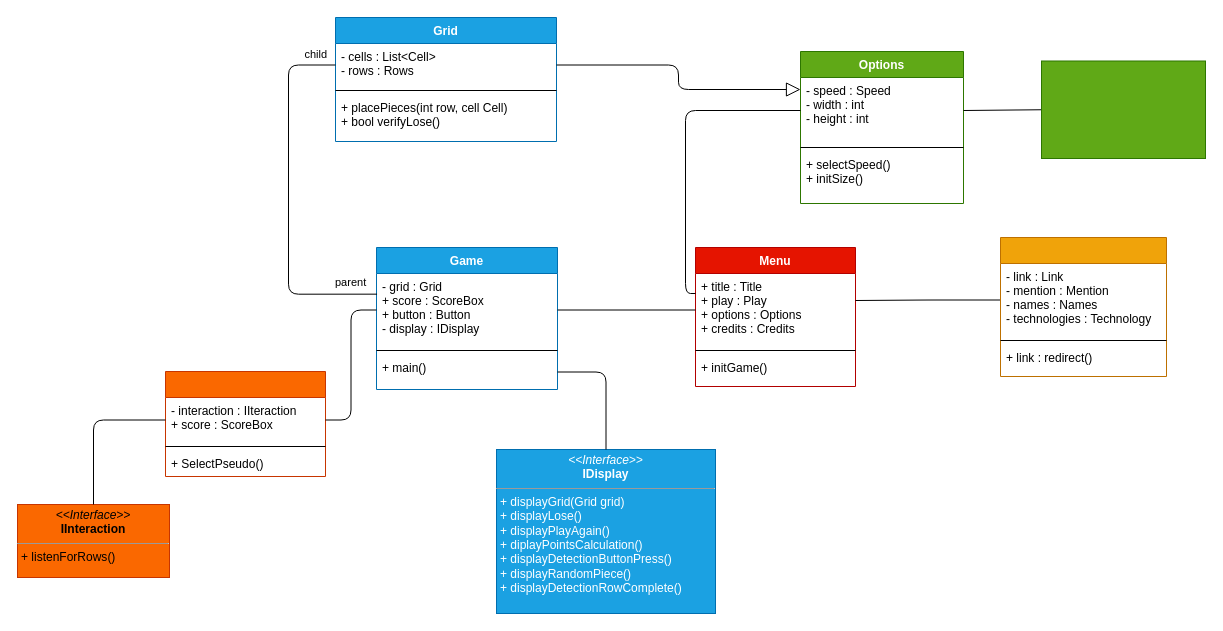
The diagram is 1223 pixels wide and 631 high, and some of its shapes have lost their labels. The box of each missing label's shape, as (x1, y1, x2, y2) in pixels:
<<Enumeration>> IInteraction - slow - normal - fast: (1040, 60, 1206, 158)
Crédits: (1000, 236, 1166, 376)
Player: (164, 370, 326, 476)
